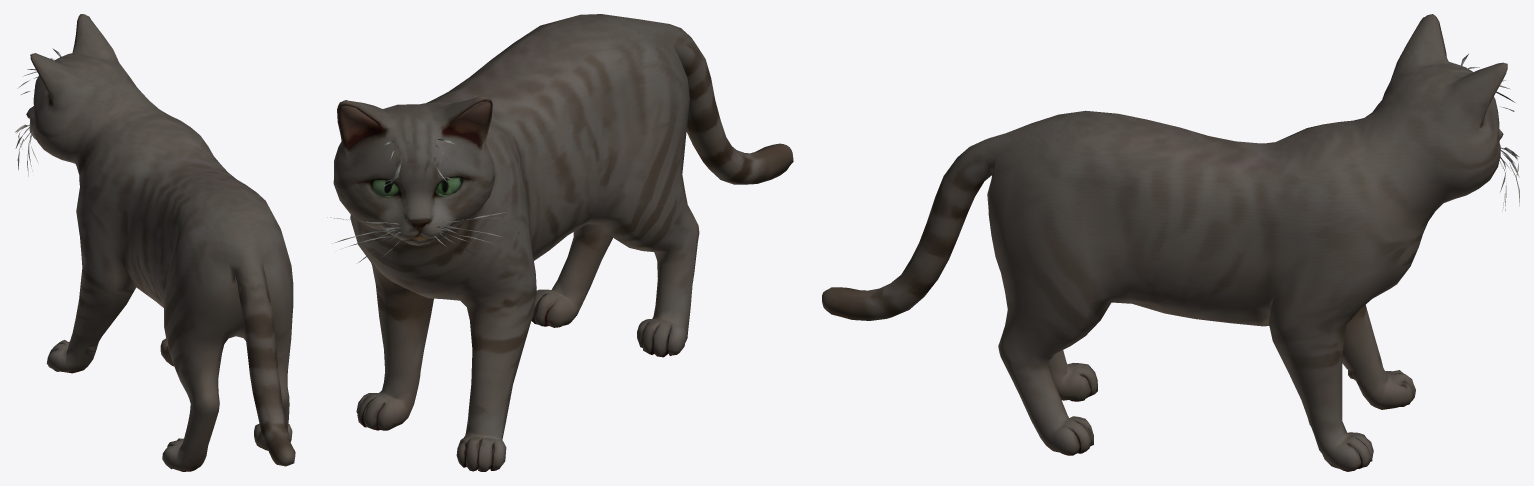
Rendered from cat-tabby.glb.
3 views of the same model, side by side, from view 1: azimuth 30°, elevation 25°; view 2: azimuth 150°, elevation 25°; view 3: azimuth 270°, elevation 25° (orthographic). The views are drawn at different scales.
Parts seen in each view (by area): view 1: tripo_node_c6e959a7-478d-4896-a1ed-286b20ce9cc1; view 2: tripo_node_c6e959a7-478d-4896-a1ed-286b20ce9cc1; view 3: tripo_node_c6e959a7-478d-4896-a1ed-286b20ce9cc1.
Part boxes in pixels (x1,y1,x2,y2): tripo_node_c6e959a7-478d-4896-a1ed-286b20ce9cc1: (15,14,295,471); tripo_node_c6e959a7-478d-4896-a1ed-286b20ce9cc1: (327,14,793,471); tripo_node_c6e959a7-478d-4896-a1ed-286b20ce9cc1: (822,14,1519,471).
Size of the model in its own units: 0.2134 by 0.42 by 0.6946.
1 material, 1 textured.
